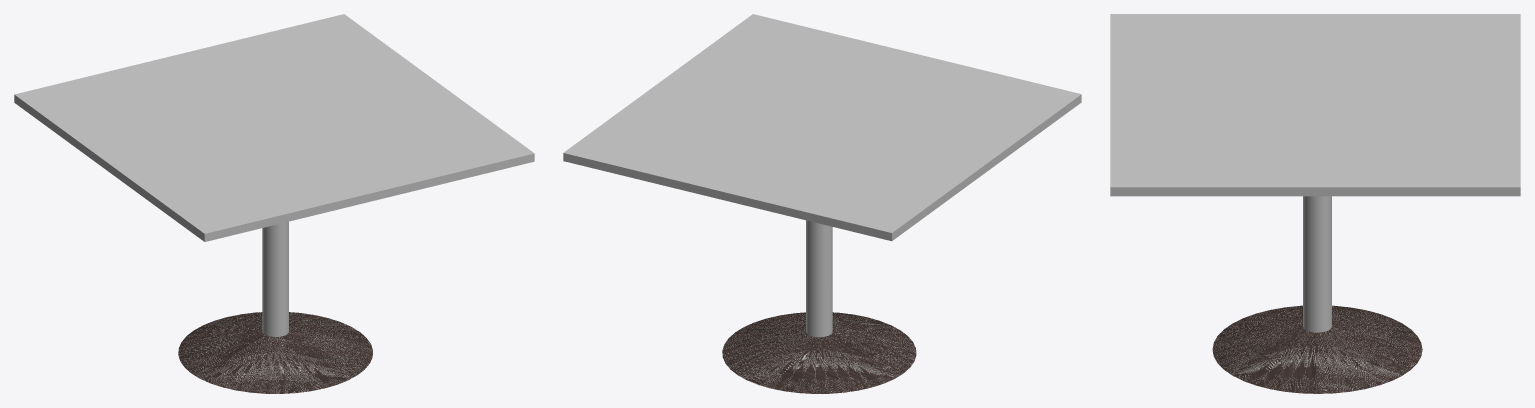
File: square_table.dae
3 views of the same model, side by side, from view 1: azimuth 30°, elevation 25°; view 2: azimuth 150°, elevation 25°; view 3: azimuth 270°, elevation 25° (orthographic). The views are drawn at different scales.
Parts seen in each view (by area): view 1: group_1, Agrupar_9, Agrupar_8; view 2: group_1, Agrupar_9, Agrupar_8; view 3: group_1, Agrupar_9, Agrupar_8.
Boxes of the visible parts, box(x1,y1,x2,y2) form: group_1: box(14, 14, 534, 241); Agrupar_9: box(178, 312, 372, 393); Agrupar_8: box(262, 221, 288, 336); group_1: box(563, 14, 1081, 241); Agrupar_9: box(722, 312, 916, 393); Agrupar_8: box(806, 220, 832, 337); group_1: box(1110, 14, 1520, 196); Agrupar_9: box(1212, 305, 1422, 393); Agrupar_8: box(1303, 196, 1331, 332).
Bounding box in the file's own units: 43.05 × 43.05 × 28.68.
